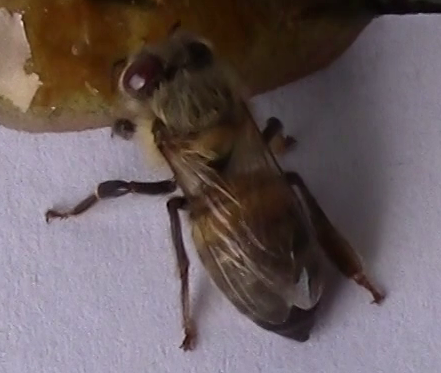Varroa destructor: (120, 54, 165, 95)
